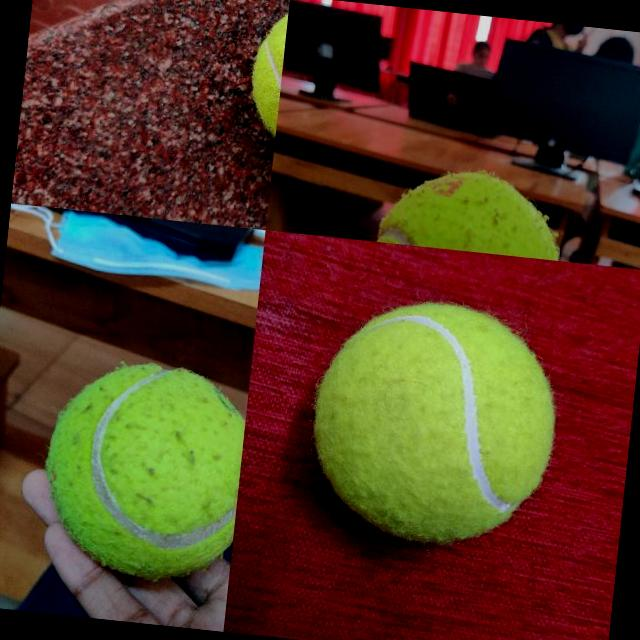Tennis Ball: (302, 290, 567, 556), (36, 353, 250, 586), (374, 160, 569, 260)
